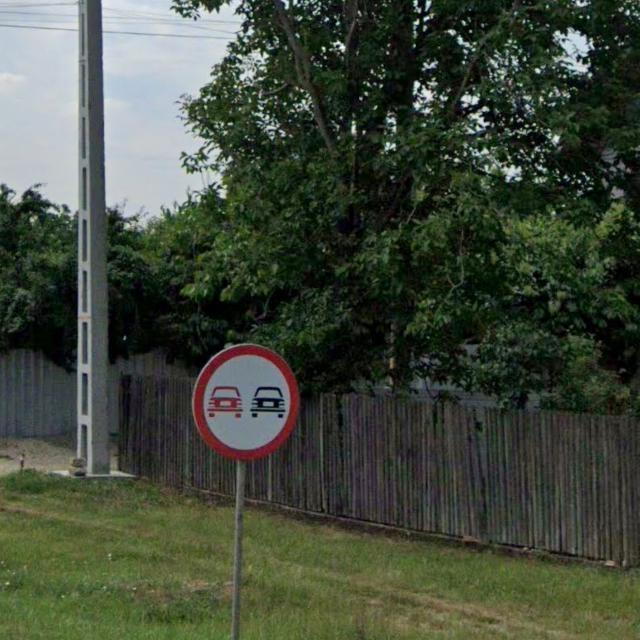forb_overtake: (191, 343, 302, 461)
